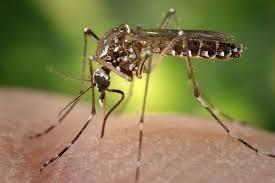Insects: (21, 2, 275, 183)
